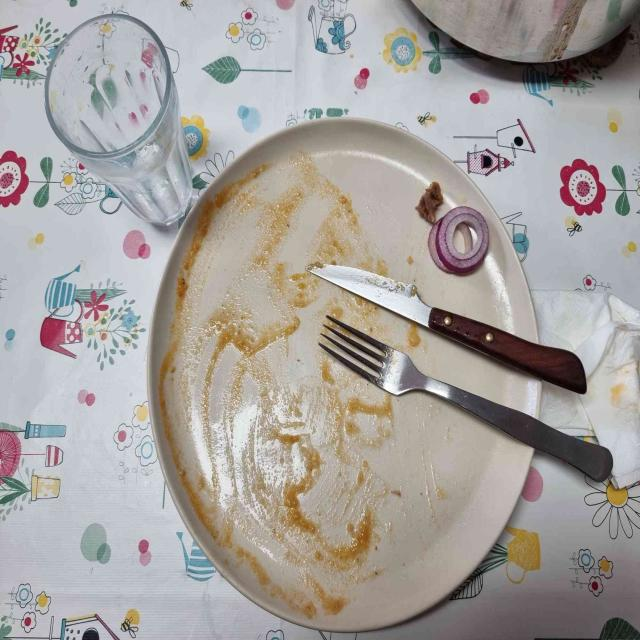cup: (44, 13, 192, 225)
fork: (318, 315, 612, 481)
garbage: (428, 206, 489, 275), (416, 181, 443, 224)
knife: (309, 265, 586, 393)
plate: (148, 119, 541, 631)
